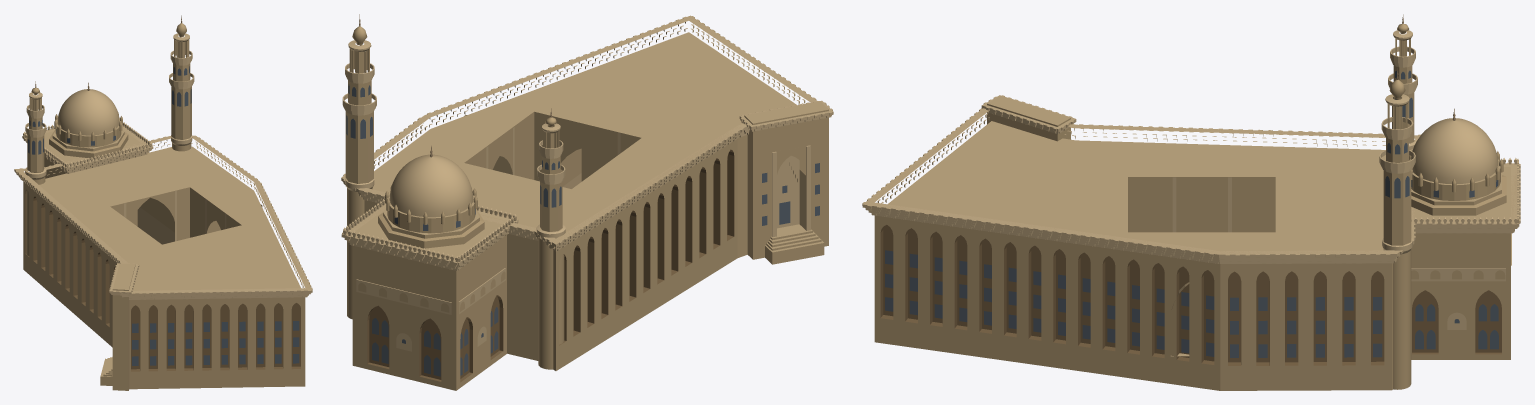
File: cairo-sultan-hassan-mosque.detail.glb
The picture shows the model from 3 angles, left to right: view 1: azimuth 30°, elevation 25°; view 2: azimuth 150°, elevation 25°; view 3: azimuth 270°, elevation 25°; orthographic projection. The views are drawn at different scales.
Visible parts, largest first — view 1: Mosque-Madrasa of Sultan Hasan; view 2: Mosque-Madrasa of Sultan Hasan; view 3: Mosque-Madrasa of Sultan Hasan.
Boxes of the visible parts, box(x1,y1,x2,y2) form: Mosque-Madrasa of Sultan Hasan: box(14, 15, 312, 390); Mosque-Madrasa of Sultan Hasan: box(341, 14, 833, 390); Mosque-Madrasa of Sultan Hasan: box(862, 14, 1520, 390).
Size of the model in its own units: 90.11 by 84 by 158.
